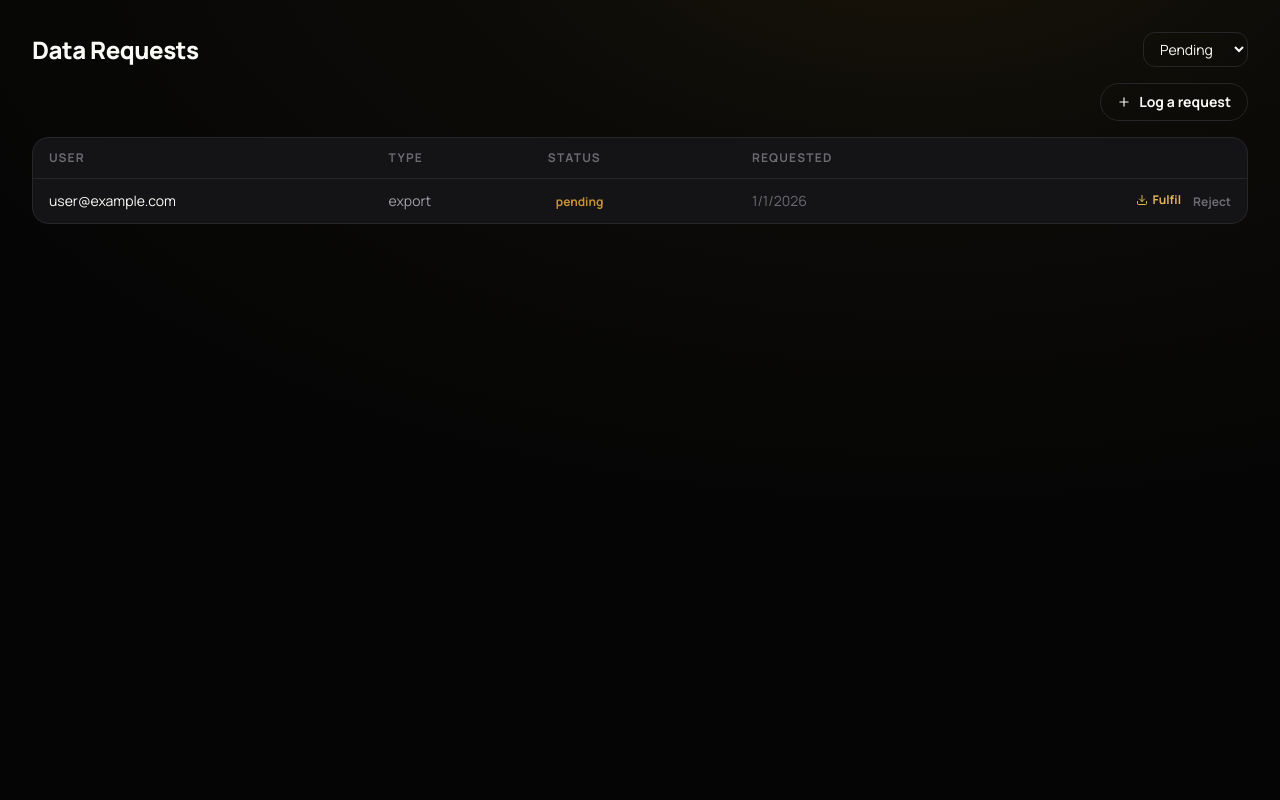
Test: DataRequests (admin) › fulfils an export, prompting for step-up when required
Check: the table with test id "admin-datarequests-table" is shown, box [33, 138, 1247, 223]
Click the button with test id "admin-datarequests-fulfil-export-btn-r1". click: (1159, 200)
box: [1136, 192, 1181, 208]
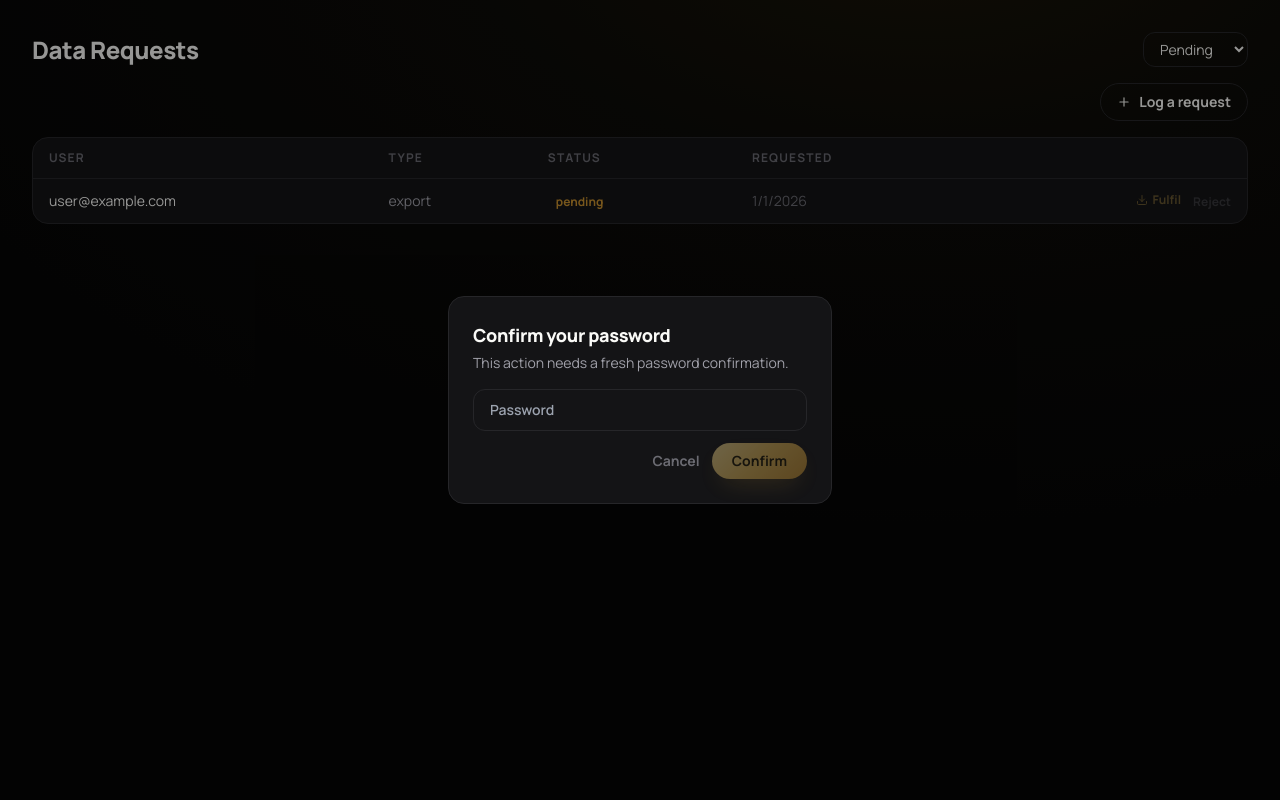
Check: the element with test id "admin-stepup-modal" is shown
